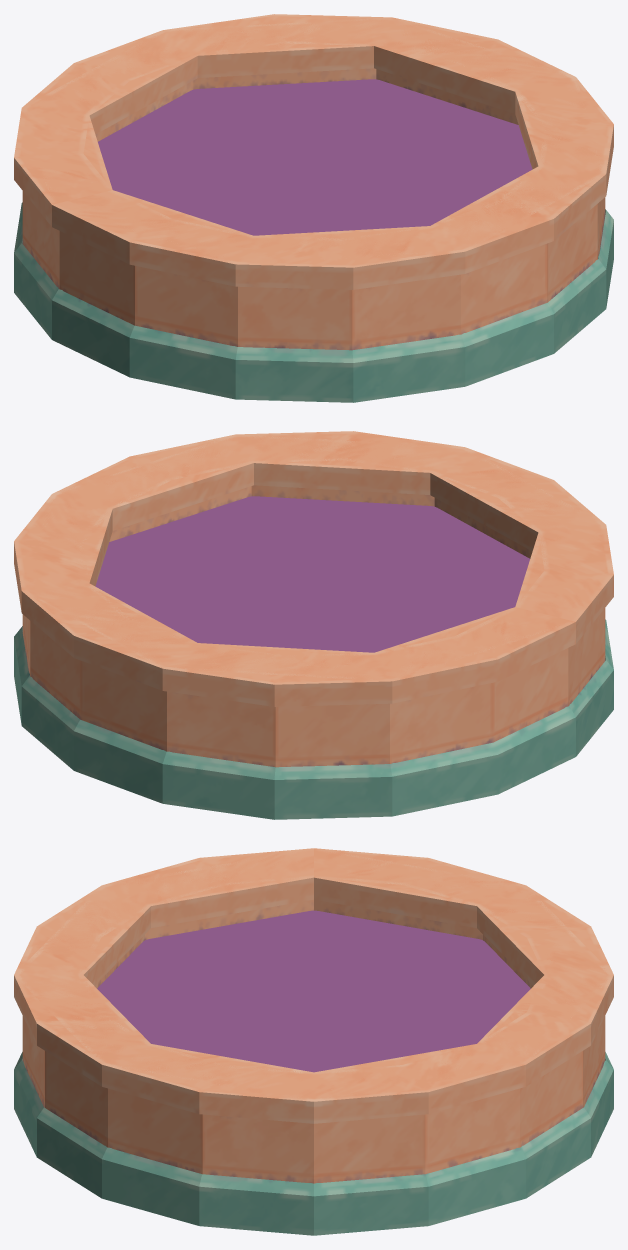
The model's file is vat_plum.bundle.fbx.
3 renders of one model, top to bottom at view 1: azimuth 30°, elevation 25°; view 2: azimuth 150°, elevation 25°; view 3: azimuth 270°, elevation 25°, orthographic.
Parts seen in each view (by area): view 1: vat_plum, vat_plum_low, vat_plum_s04, vat_plum_s07, vat_plum_s03, vat_plum_s06, vat_plum_s01, vat_plum_s02, vat_plum_s05, vat_plum_s00; view 2: vat_plum, vat_plum_low, vat_plum_s01, vat_plum_s07, vat_plum_s04, vat_plum_s03, vat_plum_s05, vat_plum_s06, vat_plum_s02; view 3: vat_plum, vat_plum_low, vat_plum_s04, vat_plum_s05, vat_plum_s02, vat_plum_s03, vat_plum_s07, vat_plum_s01, vat_plum_s00.
Part boxes in pixels (x1,y1,x2,y2): vat_plum: (14, 14, 613, 402); vat_plum_low: (22, 17, 605, 347); vat_plum_s04: (97, 105, 409, 225); vat_plum_s07: (45, 19, 364, 124); vat_plum_s03: (353, 177, 586, 333); vat_plum_s06: (366, 18, 576, 139); vat_plum_s01: (473, 82, 605, 260); vat_plum_s02: (23, 95, 255, 290); vat_plum_s05: (173, 219, 403, 347); vat_plum_s00: (262, 28, 409, 140); vat_plum: (14, 431, 613, 819); vat_plum_low: (22, 434, 605, 763); vat_plum_s01: (68, 434, 292, 552); vat_plum_s07: (39, 599, 338, 752); vat_plum_s04: (191, 543, 434, 643); vat_plum_s03: (272, 438, 499, 548); vat_plum_s05: (423, 467, 605, 585); vat_plum_s06: (27, 492, 193, 598); vat_plum_s02: (349, 560, 579, 764); vat_plum: (14, 848, 613, 1235); vat_plum_low: (15, 848, 613, 1183); vat_plum_s04: (198, 915, 494, 1064); vat_plum_s05: (36, 872, 249, 990); vat_plum_s02: (191, 849, 534, 966); vat_plum_s03: (15, 952, 212, 1050); vat_plum_s07: (461, 903, 613, 1053); vat_plum_s01: (99, 1032, 295, 1146); vat_plum_s00: (351, 1021, 533, 1064).
Size of the model in its own units: 6.9 by 1.7 by 6.9.
Materials: 1 (1 with a texture image).
